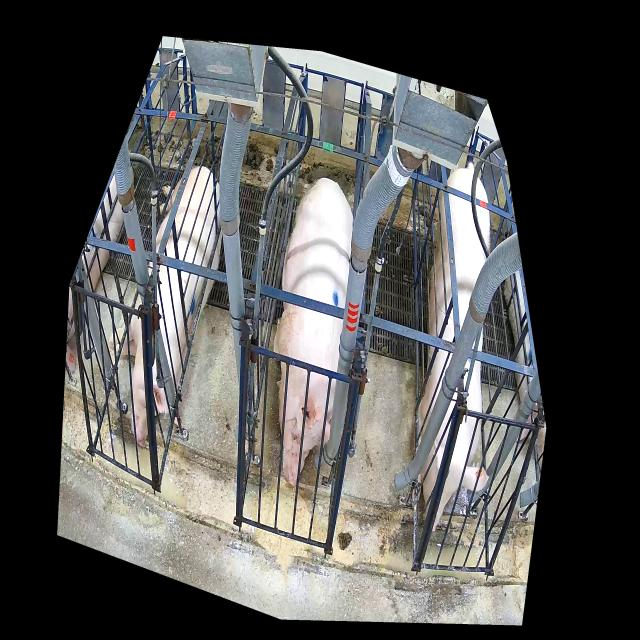pig: (108, 165, 223, 447), (412, 162, 490, 531), (274, 177, 354, 486)
